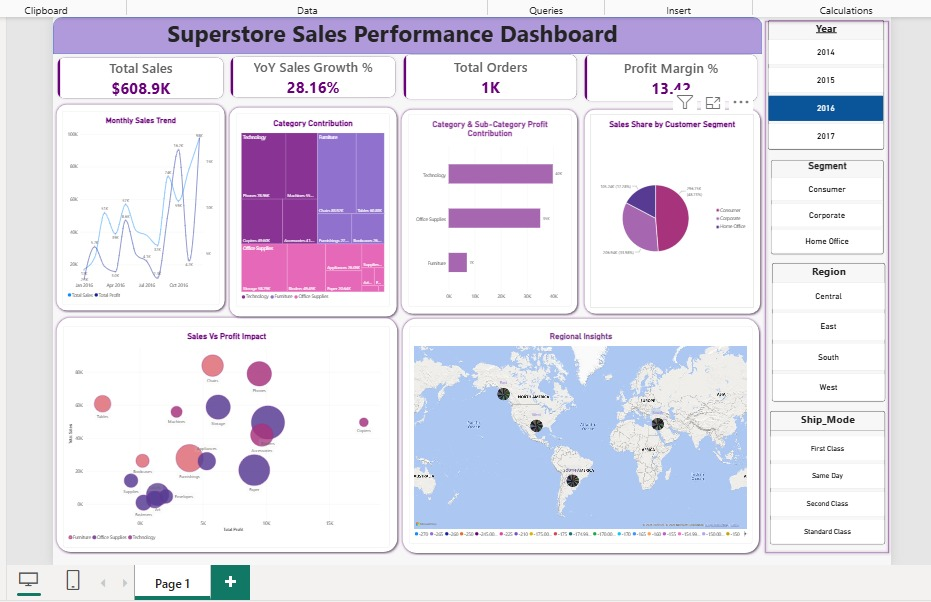

Layout of this report page (visuals, bound fields, positions):
{"tool":"powerbi","page":{"name":"Page 1","canvas":[2600,1700],"ordinal":0},"visuals":[{"type":"cardVisual","fields":{"Data":["superstore_db superstore (2).Total Sales"]},"box":[2.9,114.5,537.4,149.8],"z":0},{"type":"cardVisual","fields":{"Data":["superstore_db superstore (2).YoY Sales Growth %"]},"box":[539.8,111.7,534.5,149.8],"z":1000},{"type":"cardVisual","fields":{"Data":["superstore_db superstore (2).Total Orders"]},"box":[1077.8,105.7,560.9,161.5],"z":2000},{"type":"cardVisual","fields":{"Data":["superstore_db superstore (2).Profit Margin %"]},"box":[1638.8,105.7,558,167.4],"z":3000},{"type":"shape","box":[0,0,2200.2,115.4],"z":4000},{"type":"textbox","box":[0,413.5,425,207],"z":5000},{"type":"textbox","box":[0,657.5,425,207],"z":6000},{"type":"textbox","box":[212,0,1685,115.4],"z":7000},{"type":"shape","box":[2.9,264.3,537.4,654.9],"z":8000},{"type":"shape","box":[2.7,925.7,1073.3,743.2],"z":9000},{"type":"shape","box":[1076,928.4,1121.6,743.2],"z":10000},{"type":"shape","box":[1640.1,279.6,560.9,649],"z":11000},{"type":"lineChart","title":"Monthly Sales Trend","fields":{"Y":["superstore_db superstore (2).Total Sales"],"Category":["superstore_db superstore (2).Order_Date.Variation.Date Hierarchy.Year","superstore_db superstore (2).Order_Date.Variation.Date Hierarchy.Month"],"Y2":["superstore_db superstore (2).Total Profit"]},"box":[26.8,292.5,487.5,602.1],"z":12000},{"type":"pieChart","title":"Sales Share by Customer Segment","fields":{"Category":["superstore_db superstore (2).Segment"],"Y":["superstore_db superstore (2).Total Sales"]},"box":[1665.1,302.1,508.1,602.1],"z":13000},{"type":"map","title":"Regional Insights","fields":{"Series":["superstore_db superstore (2).Profit_Margins_Percentage"],"Category":["superstore_db superstore (2).Region"]},"box":[1105.5,957.9,1065.2,676.2],"z":14000},{"type":"scatterChart","title":"Sales Vs Profit Impact","fields":{"Series":["superstore_db superstore (2).Category"],"Category":["superstore_db superstore (2).Sub_Category"],"Size":["Sum(superstore_db superstore (2).Quantity)"],"X":["superstore_db superstore (2).Total Profit"],"Y":["superstore_db superstore (2).Total Sales"]},"box":[32.2,957.9,1014.2,686.9],"z":15000},{"type":"shape","box":[2199.3,2.5,402.5,1668.9],"z":16000},{"type":"advancedSlicerVisual","fields":{"Values":["superstore_db superstore (2).Region"]},"box":[2229.7,762,351.5,429.3],"z":17000},{"type":"advancedSlicerVisual","fields":{"Values":["superstore_db superstore (2).Year"]},"box":[2219.2,10,359.5,402.5],"z":18000},{"type":"advancedSlicerVisual","fields":{"Values":["superstore_db superstore (2).Ship_Mode"]},"box":[2224.4,1220.8,356.9,413.2],"z":19000},{"type":"advancedSlicerVisual","fields":{"Values":["superstore_db superstore (2).Segment"]},"box":[2227,442.7,348.8,292.5],"z":20000},{"type":"shape","box":[539.2,272.1,534.2,664],"z":21000},{"type":"treemap","title":"Category Contribution","fields":{"Values":["superstore_db superstore (2).Total Sales"],"Group":["superstore_db superstore (2).Category"],"Details":["superstore_db superstore (2).Sub_Category"]},"box":[569.2,297.1,476.8,601.6],"z":22000},{"type":"shape","box":[1073.4,279.6,560.9,649],"z":23000},{"type":"barChart","title":"Category & Sub-Category Profit Contribution","fields":{"Category":["superstore_db superstore (2).Category","superstore_db superstore (2).Sub_Category"],"Y":["superstore_db superstore (2).Total Profit"]},"box":[1100.9,299.6,507.1,598.3],"z":24000}]}

Visuals, with their boxes on the page's 2600x1700 design canvas (x1, y1, x2, y2). These are canvas units, not pixel positions in the 931x602 screenshot, which may show the page scaled, cropped or inside an application window:
cardVisual - superstore_db superstore (2).Total Sales: pyautogui.locateOnScreen(3, 114, 540, 264)
cardVisual - superstore_db superstore (2).YoY Sales Growth %: pyautogui.locateOnScreen(540, 112, 1074, 262)
cardVisual - superstore_db superstore (2).Total Orders: pyautogui.locateOnScreen(1078, 106, 1639, 267)
cardVisual - superstore_db superstore (2).Profit Margin %: pyautogui.locateOnScreen(1639, 106, 2197, 273)
shape: pyautogui.locateOnScreen(0, 0, 2200, 115)
textbox: pyautogui.locateOnScreen(0, 414, 425, 620)
textbox: pyautogui.locateOnScreen(0, 658, 425, 864)
textbox: pyautogui.locateOnScreen(212, 0, 1897, 115)
shape: pyautogui.locateOnScreen(3, 264, 540, 919)
shape: pyautogui.locateOnScreen(3, 926, 1076, 1669)
shape: pyautogui.locateOnScreen(1076, 928, 2198, 1672)
shape: pyautogui.locateOnScreen(1640, 280, 2201, 929)
"Monthly Sales Trend" lineChart: pyautogui.locateOnScreen(27, 292, 514, 895)
"Sales Share by Customer Segment" pieChart: pyautogui.locateOnScreen(1665, 302, 2173, 904)
"Regional Insights" map: pyautogui.locateOnScreen(1106, 958, 2171, 1634)
"Sales Vs Profit Impact" scatterChart: pyautogui.locateOnScreen(32, 958, 1046, 1645)
shape: pyautogui.locateOnScreen(2199, 2, 2602, 1671)
advancedSlicerVisual - superstore_db superstore (2).Region: pyautogui.locateOnScreen(2230, 762, 2581, 1191)
advancedSlicerVisual - superstore_db superstore (2).Year: pyautogui.locateOnScreen(2219, 10, 2579, 412)
advancedSlicerVisual - superstore_db superstore (2).Ship_Mode: pyautogui.locateOnScreen(2224, 1221, 2581, 1634)
advancedSlicerVisual - superstore_db superstore (2).Segment: pyautogui.locateOnScreen(2227, 443, 2576, 735)
shape: pyautogui.locateOnScreen(539, 272, 1073, 936)
"Category Contribution" treemap: pyautogui.locateOnScreen(569, 297, 1046, 899)
shape: pyautogui.locateOnScreen(1073, 280, 1634, 929)
"Category & Sub-Category Profit Contribution" barChart: pyautogui.locateOnScreen(1101, 300, 1608, 898)
